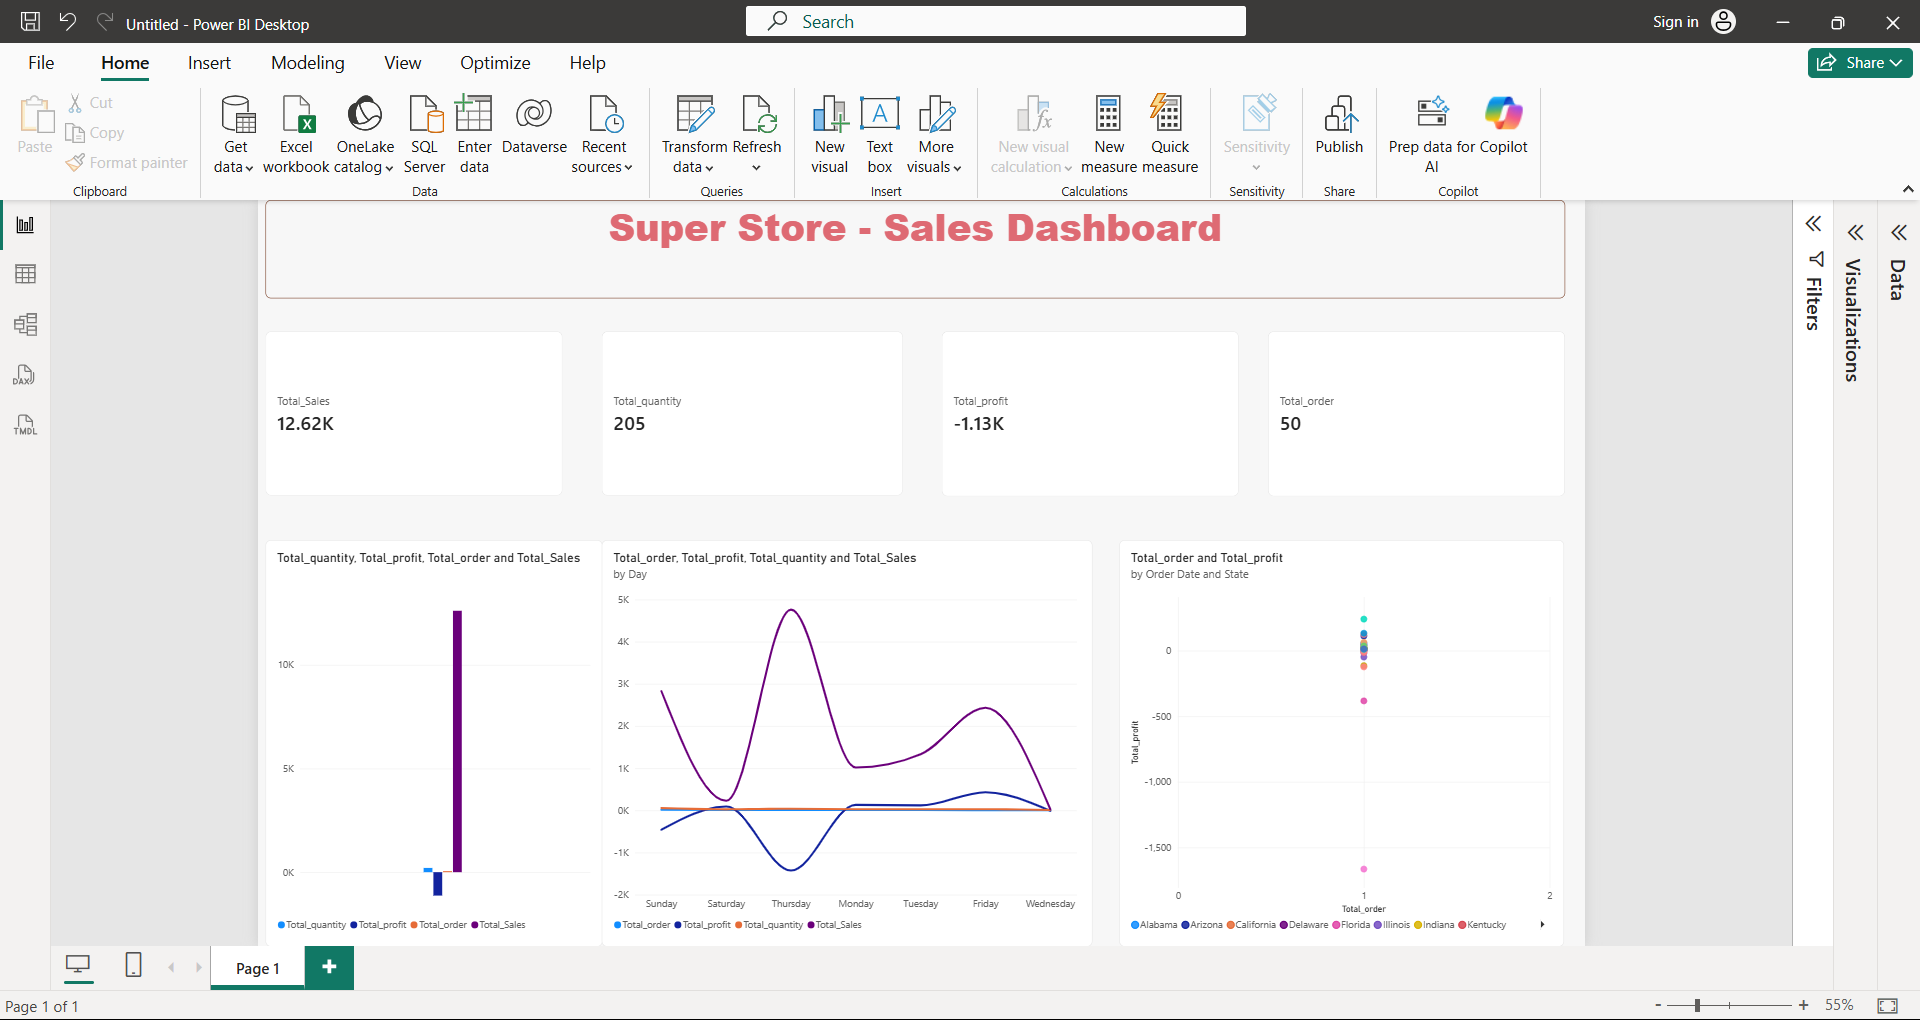

Layout of this report page (visuals, bound fields, positions):
{"tool":"powerbi","page":{"name":"Page 1","canvas":[1920,1080],"ordinal":0},"visuals":[{"type":"textbox","box":[10.3,0,1881.3,142],"z":0},{"type":"cardVisual","fields":{"Data":["Measure.Total_Sales"]},"box":[10.3,189.4,430.2,238.8],"z":1000},{"type":"cardVisual","fields":{"Data":["Measure.Total_quantity"]},"box":[498.1,189.4,436.4,238.8],"z":2000},{"type":"cardVisual","fields":{"Data":["Measure.Total_profit"]},"box":[990.1,189.4,430,239],"z":3000},{"type":"cardVisual","fields":{"Data":["Measure.Total_order"]},"box":[1461.4,189.4,430,239],"z":4000},{"type":"clusteredColumnChart","fields":{"Y":["Measure.Total_quantity","Measure.Total_profit","Measure.Total_order","Measure.Total_Sales"]},"box":[10.3,491.9,487.8,588.7],"z":5000},{"type":"lineChart","fields":{"Category":["Date.Day"],"Y":["Measure.Total_order","Measure.Total_profit","Measure.Total_quantity","Measure.Total_Sales"]},"box":[498.1,491.9,710.1,588.7],"z":6000},{"type":"scatterChart","fields":{"Category":["Order.Order Date"],"Series":["Order.State"],"X":["Measure.Total_order"],"Y":["Measure.Total_profit"]},"box":[1247.3,491.9,644.3,588.7],"z":7000}]}

Visuals, with their boxes on the page's 1920x1080 design canvas (x1, y1, x2, y2). These are canvas units, not pixel positions in the 1920x1020 screenshot, which may show the page scaled, cropped or inside an application window:
textbox: [10, 0, 1892, 142]
cardVisual - Measure.Total_Sales: [10, 189, 440, 428]
cardVisual - Measure.Total_quantity: [498, 189, 934, 428]
cardVisual - Measure.Total_profit: [990, 189, 1420, 428]
cardVisual - Measure.Total_order: [1461, 189, 1891, 428]
clusteredColumnChart - Measure.Total_quantity x Measure.Total_profit: [10, 492, 498, 1081]
lineChart - Date.Day x Measure.Total_order: [498, 492, 1208, 1081]
scatterChart - Order.Order Date x Order.State: [1247, 492, 1892, 1081]
